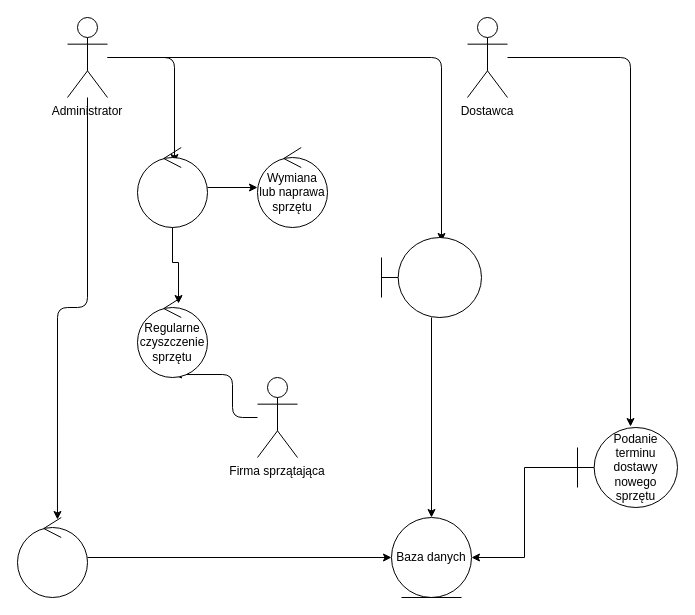
The diagram is 695 pixels wide and 615 high, and some of its shapes have lost their labels. Each missing label, with the box of its shape:
Formularz zgłaszania usterek do dostawcy: (380, 236, 482, 318)
Sprawdzanie raportów dotyczących sprzętu: (16, 516, 88, 598)
Zarządzanie sprzętem sportowym: (136, 146, 208, 228)
